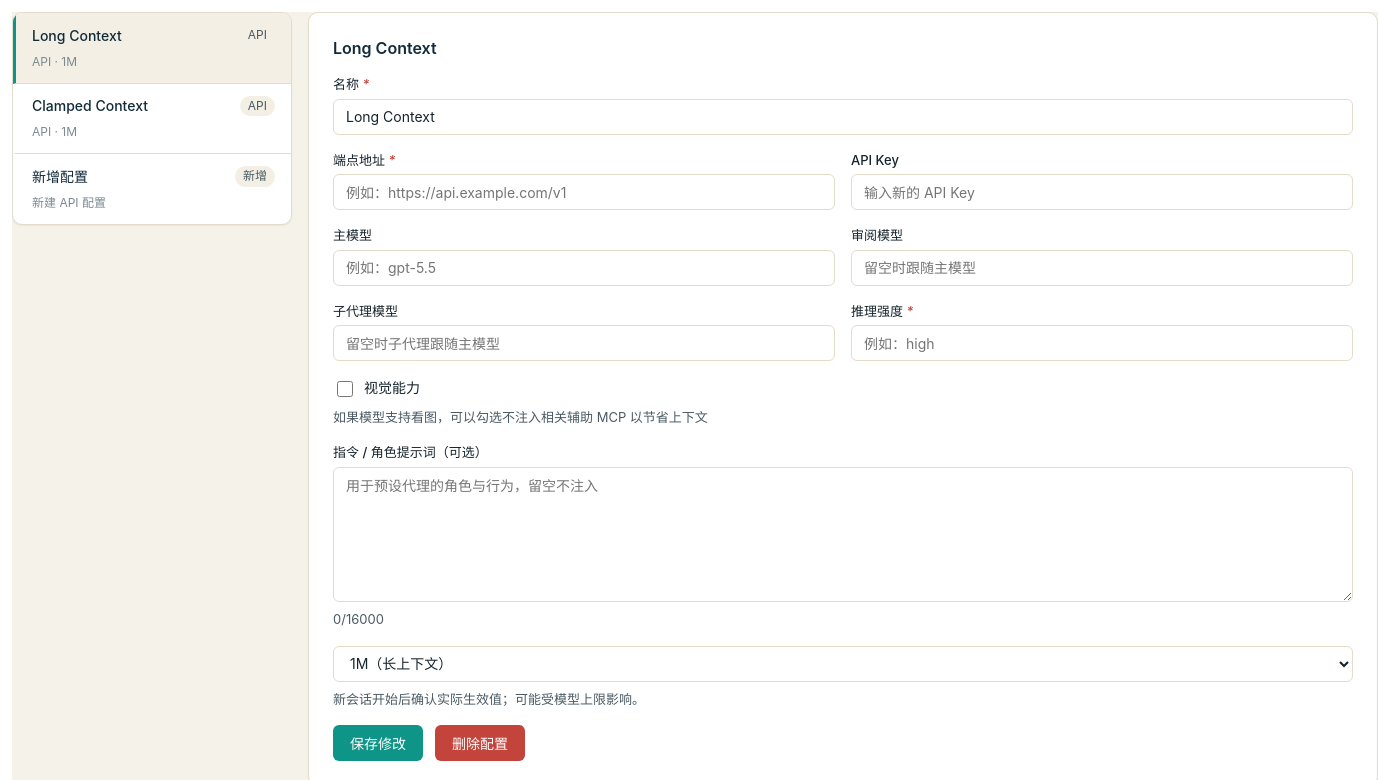
Test: CodexProfileSection › shows context request and observed clamp feedback without guessing effect
The image size is (1378, 780).
Click the button "Long Context API API · 1M" at (77, 35), box [13,13,291,84]
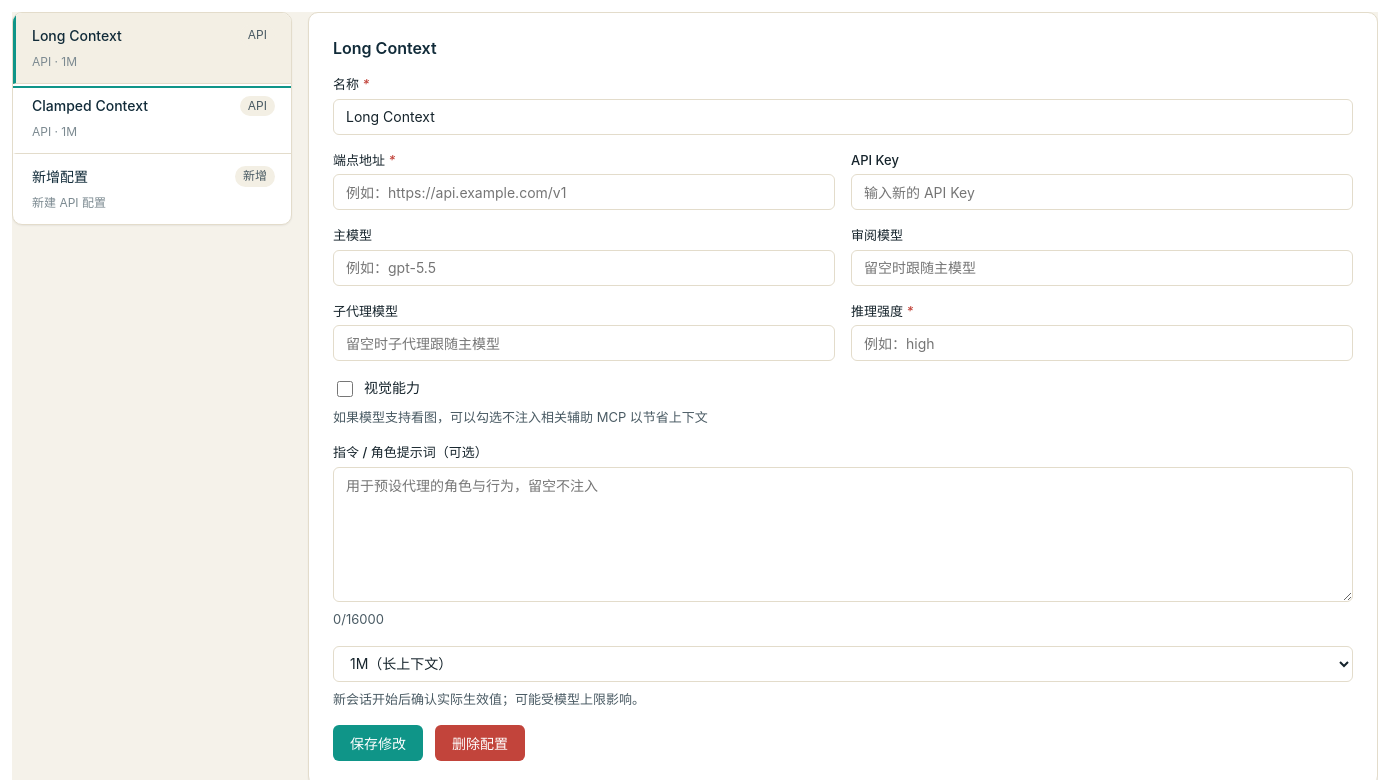
Expected: the text "新会话开始后确认实际生效值；可能受模型上限影响。" is shown, [333,691,645,707]
Click the button "Clamped Context API API · 1M" at (90, 106), box [13,84,291,154]
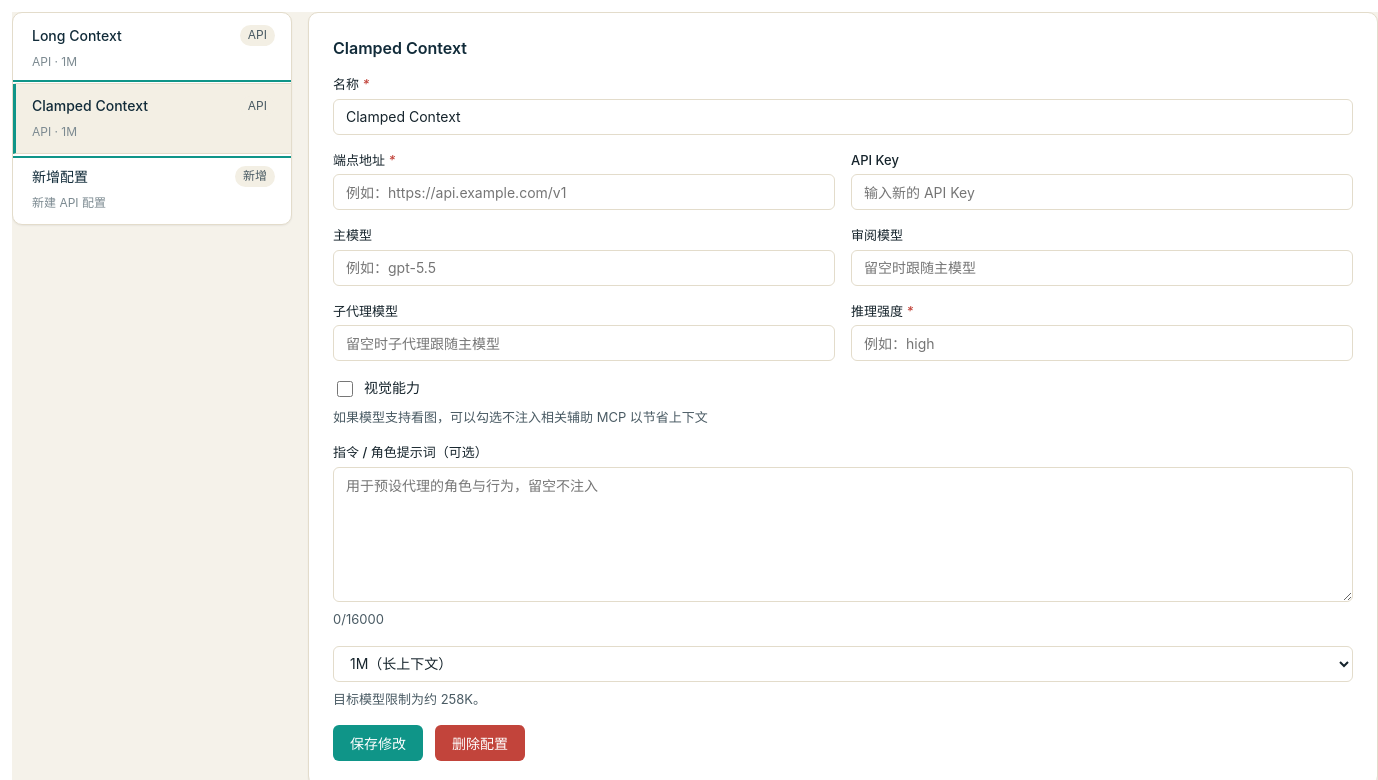
Expected: the text "目标模型限制为约 258K。" is shown, [333,691,486,707]
